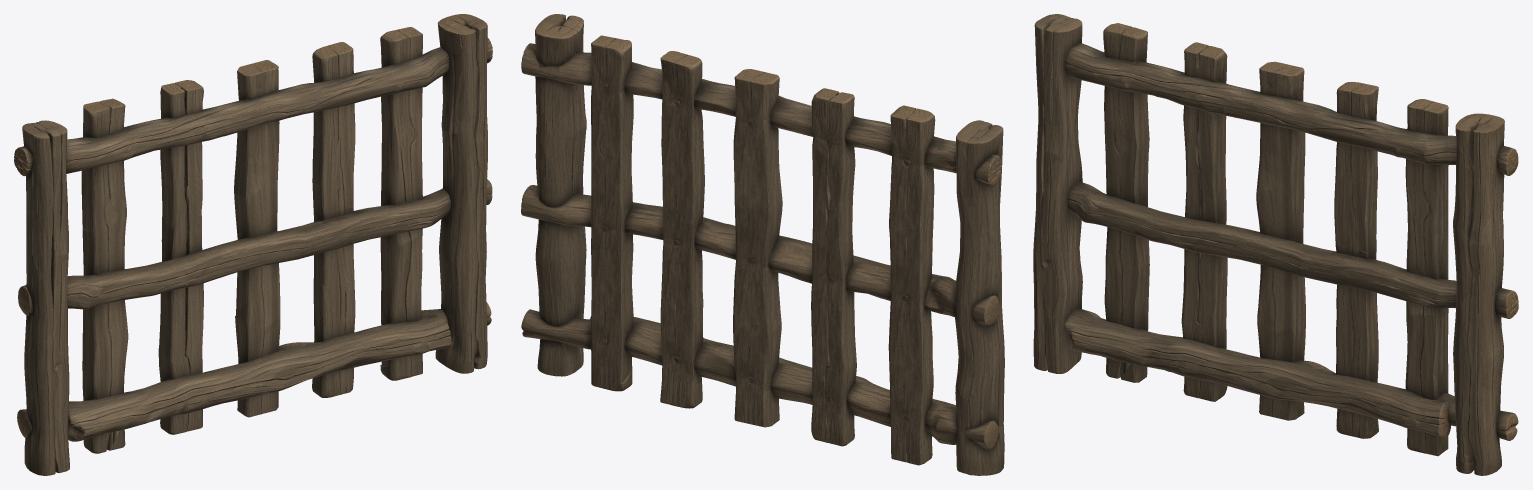
The model's file is split_fence.glb.
The picture shows the model from 3 angles, left to right: view 1: azimuth 30°, elevation 25°; view 2: azimuth 150°, elevation 25°; view 3: azimuth 330°, elevation 25°; orthographic projection.
Size of the model in its own units: 1.9 by 1.34 by 0.1973.
Materials: 1 (1 with a texture image).
